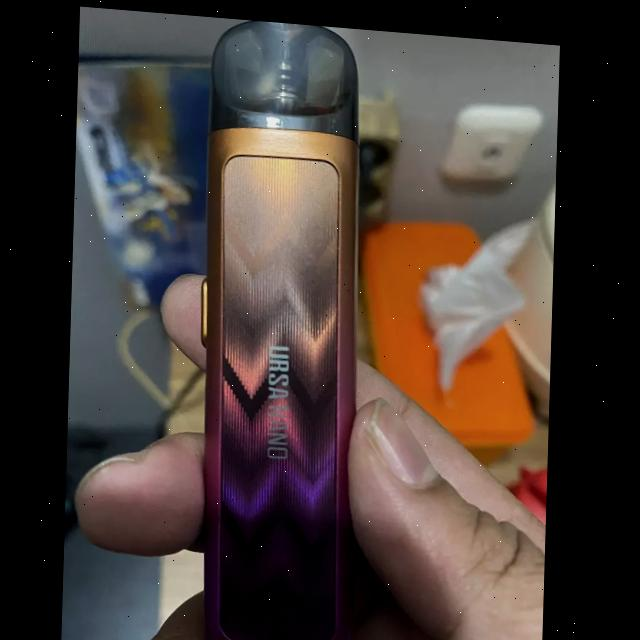vape: (195, 13, 370, 640)
